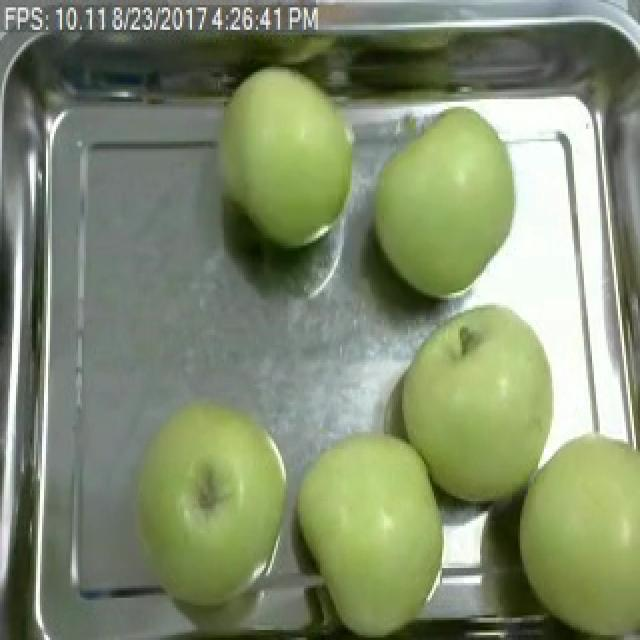50-_ripeness: (203, 36, 355, 267), (393, 311, 555, 499), (136, 406, 286, 605), (298, 432, 437, 636), (376, 107, 519, 288), (521, 426, 640, 636)
